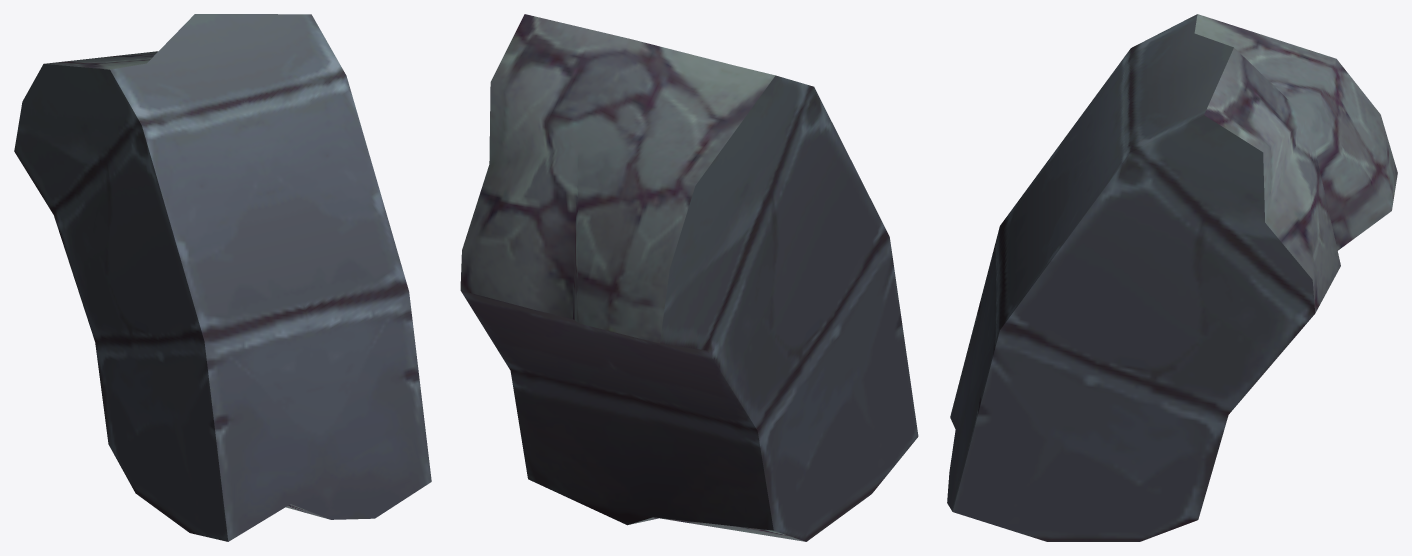
File: huoshan_stone_04.FBX
3 views of the same model, side by side, from view 1: azimuth 30°, elevation 25°; view 2: azimuth 150°, elevation 25°; view 3: azimuth 270°, elevation 25° (orthographic). The views are drawn at different scales.
Visible parts, largest first — view 1: huoshan_stone_04; view 2: huoshan_stone_04; view 3: huoshan_stone_04.
Boxes of the visible parts, x1,y1,x2,y2 form: huoshan_stone_04: (14,14,431,541); huoshan_stone_04: (460,14,918,541); huoshan_stone_04: (947,14,1397,541).
Size of the model in its own units: 301 by 609 by 549.
